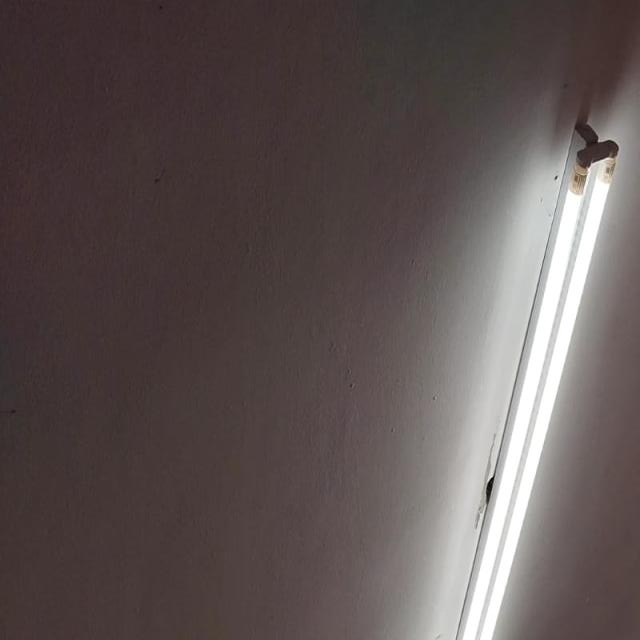fluorescent tube: (409, 89, 640, 640)
